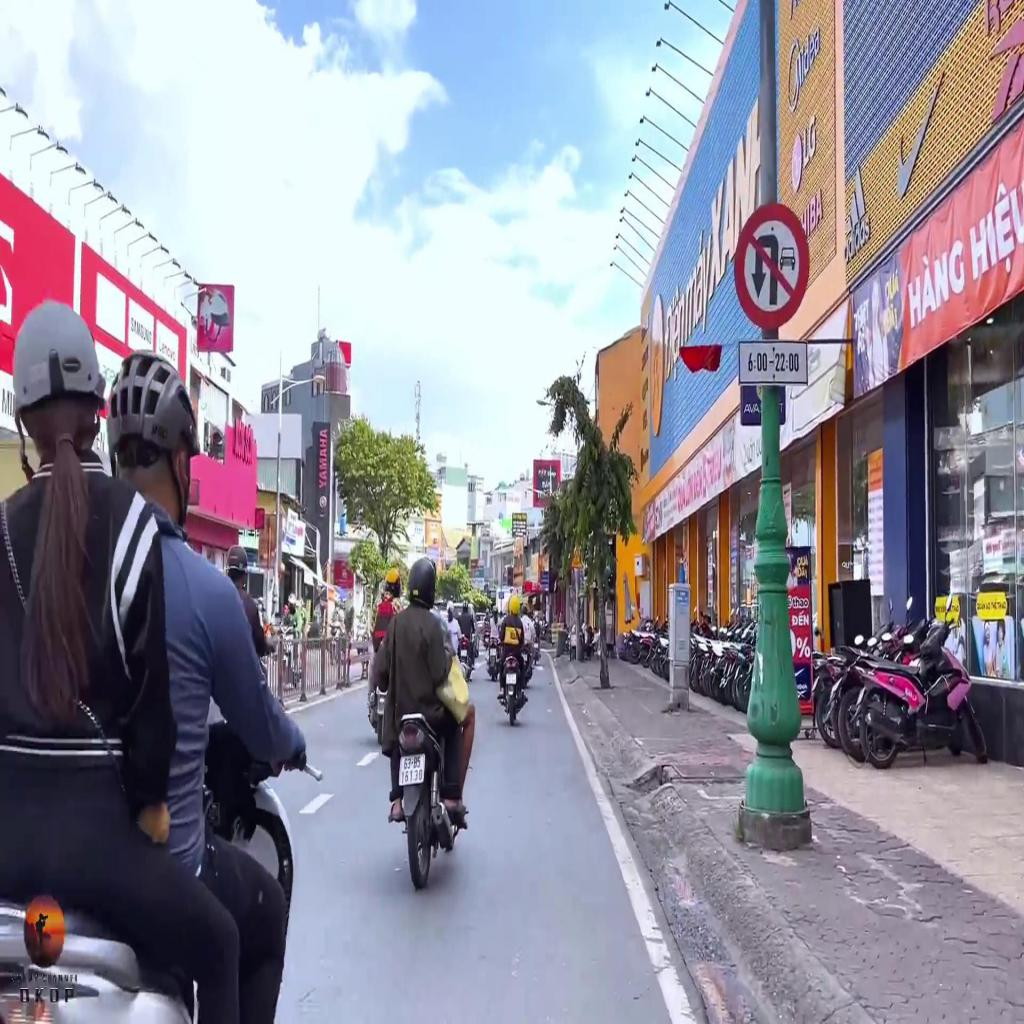cam_o_to_quay_dau_xe: (734, 203, 809, 331)
khac: (740, 341, 808, 384)
